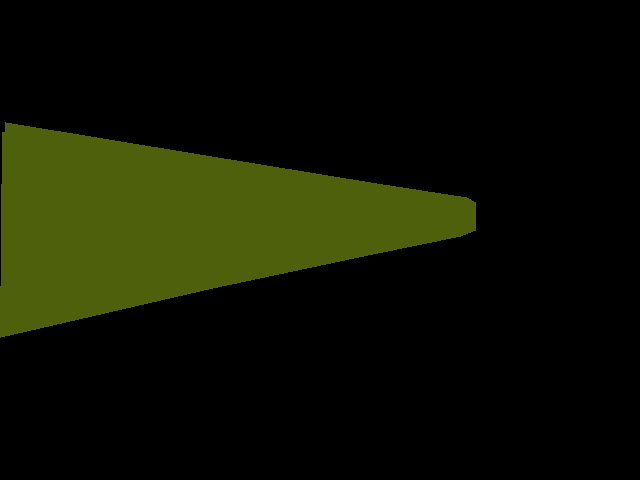Train: (0, 122, 475, 337)
